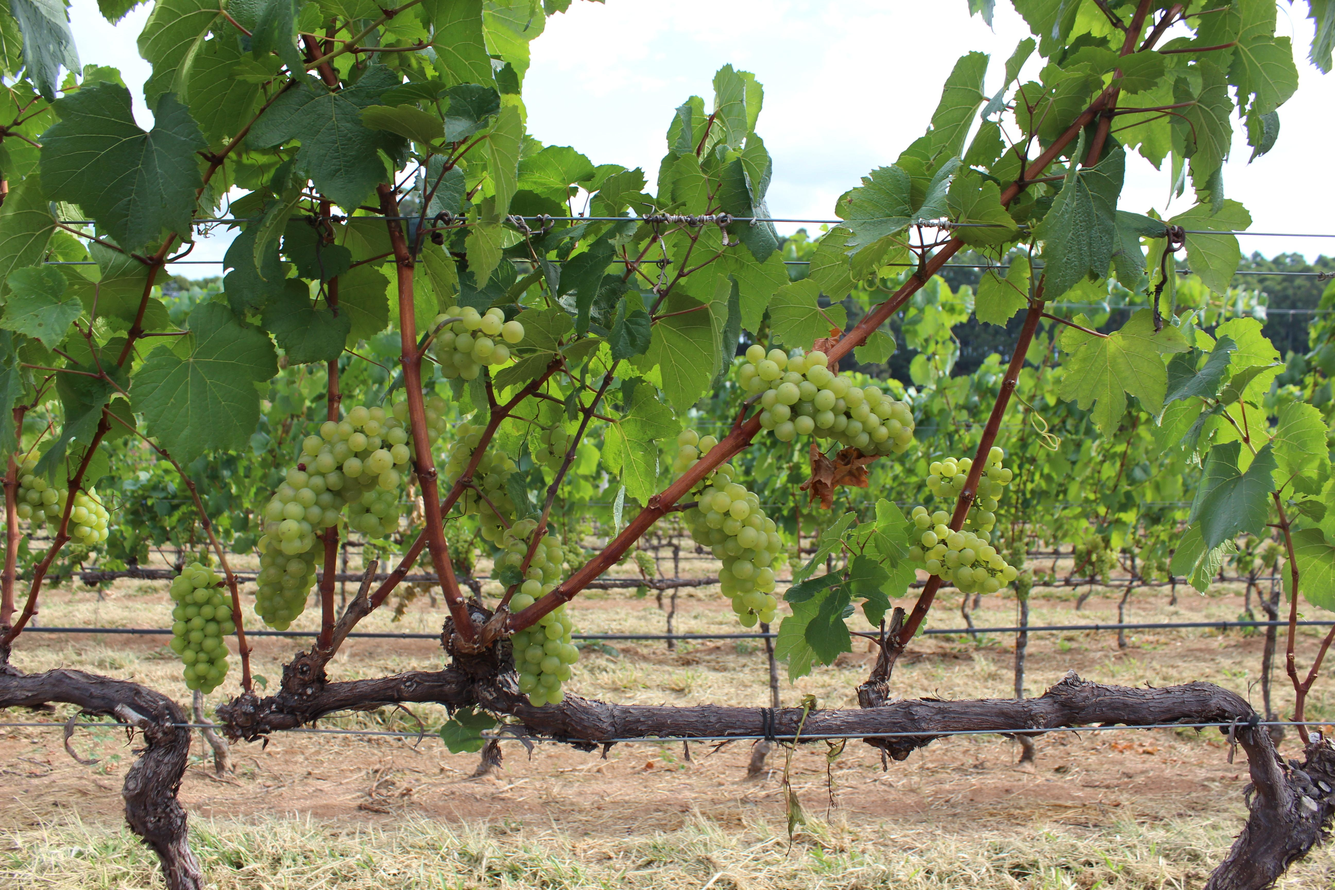leaf: (41, 83, 207, 251), (132, 303, 277, 461), (247, 66, 405, 208), (1058, 309, 1188, 435), (1035, 146, 1124, 300), (34, 365, 128, 479), (62, 243, 173, 331), (602, 384, 680, 504), (1192, 441, 1276, 549), (138, 0, 224, 105), (646, 292, 718, 414), (187, 39, 263, 144), (1229, 0, 1298, 113), (1170, 200, 1251, 293), (263, 279, 351, 363), (1174, 58, 1234, 181), (8, 0, 79, 101), (836, 165, 913, 255), (0, 174, 55, 297), (0, 266, 82, 348), (931, 52, 989, 157), (423, 0, 493, 85), (228, 0, 304, 76), (718, 252, 790, 331), (224, 223, 284, 317), (1270, 402, 1330, 494), (947, 170, 1018, 247), (768, 278, 846, 348), (1164, 335, 1237, 405), (1170, 523, 1236, 592), (793, 511, 857, 582), (517, 146, 594, 204), (281, 218, 352, 280), (1112, 210, 1165, 292), (338, 265, 390, 345), (487, 105, 524, 217), (975, 255, 1030, 325), (804, 585, 852, 664), (1215, 318, 1282, 373), (1293, 528, 1335, 610), (775, 600, 818, 680), (443, 83, 500, 141), (361, 104, 444, 143), (848, 554, 891, 626), (607, 292, 652, 360), (439, 705, 497, 752), (0, 330, 23, 441), (465, 220, 505, 280), (1308, 0, 1335, 73), (783, 572, 842, 603), (854, 330, 896, 363), (460, 289, 491, 310), (1284, 573, 1294, 596), (836, 250, 847, 265), (228, 41, 235, 46), (217, 40, 224, 44), (1243, 102, 1247, 105), (381, 288, 383, 294), (274, 72, 276, 76), (983, 56, 986, 58), (2, 440, 8, 441), (261, 269, 264, 271), (809, 271, 810, 276), (226, 78, 230, 79), (71, 363, 73, 365), (1188, 246, 1189, 249), (382, 224, 383, 227), (427, 319, 429, 320), (112, 422, 114, 423), (827, 291, 828, 292), (971, 54, 981, 54), (62, 375, 63, 375)
